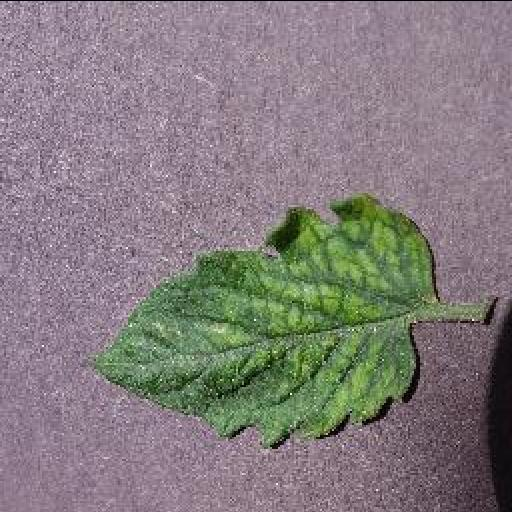disease_tomato: (76, 194, 438, 446)
